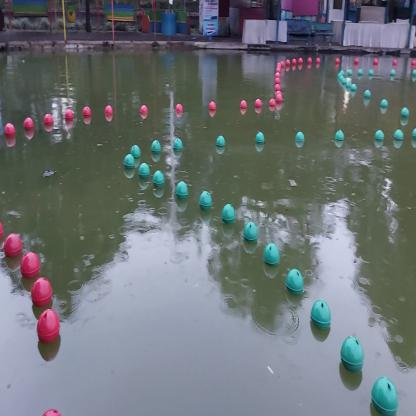green_buoy: (370, 376, 399, 416), (339, 332, 365, 376), (284, 261, 306, 301), (309, 298, 333, 331), (260, 235, 280, 270), (196, 183, 214, 213), (220, 199, 238, 229), (244, 216, 258, 246), (151, 166, 166, 190), (174, 180, 190, 201), (138, 157, 150, 183), (129, 143, 144, 163), (122, 151, 136, 171), (173, 134, 183, 156), (215, 134, 226, 150), (374, 128, 384, 144), (295, 129, 305, 145), (255, 130, 264, 146), (151, 139, 160, 155), (394, 128, 402, 145), (335, 128, 344, 142)
red_buoy: (36, 305, 62, 348), (29, 274, 55, 310), (19, 250, 41, 284), (2, 232, 23, 264), (3, 117, 16, 144), (41, 108, 54, 131), (64, 100, 74, 126), (23, 112, 34, 134), (80, 102, 92, 122), (207, 96, 217, 112), (138, 101, 148, 116), (103, 103, 113, 117), (175, 101, 183, 117), (252, 98, 262, 108), (268, 96, 276, 108), (240, 96, 246, 110)
